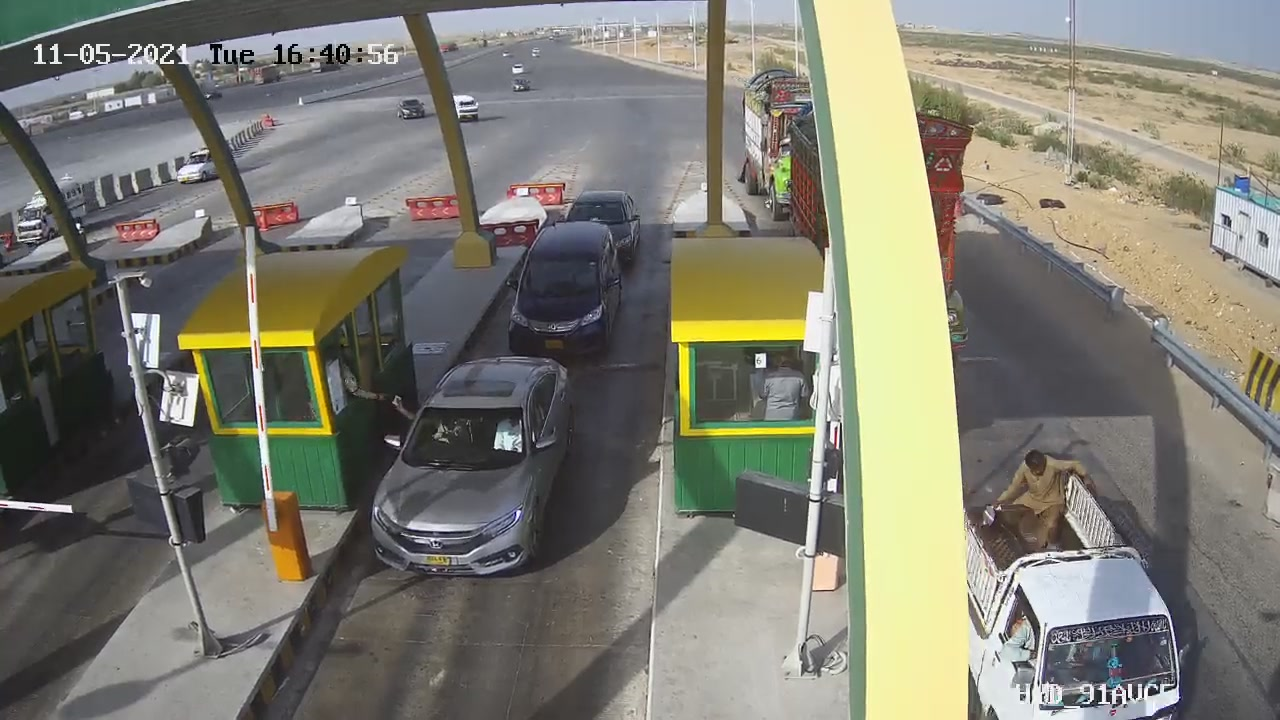F1: (349, 342, 596, 592), (489, 211, 642, 366)
